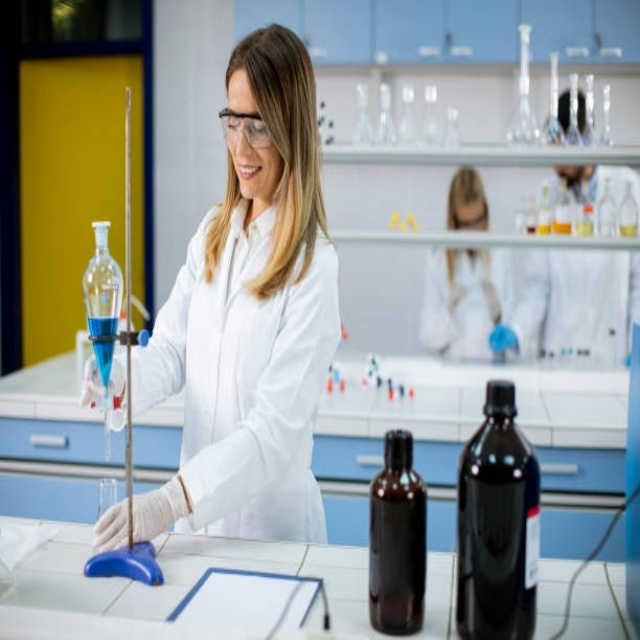Gafas: (220, 110, 275, 149)
Guantes: (89, 469, 189, 563), (81, 351, 130, 414)
Sin_mascara: (234, 157, 269, 196)
